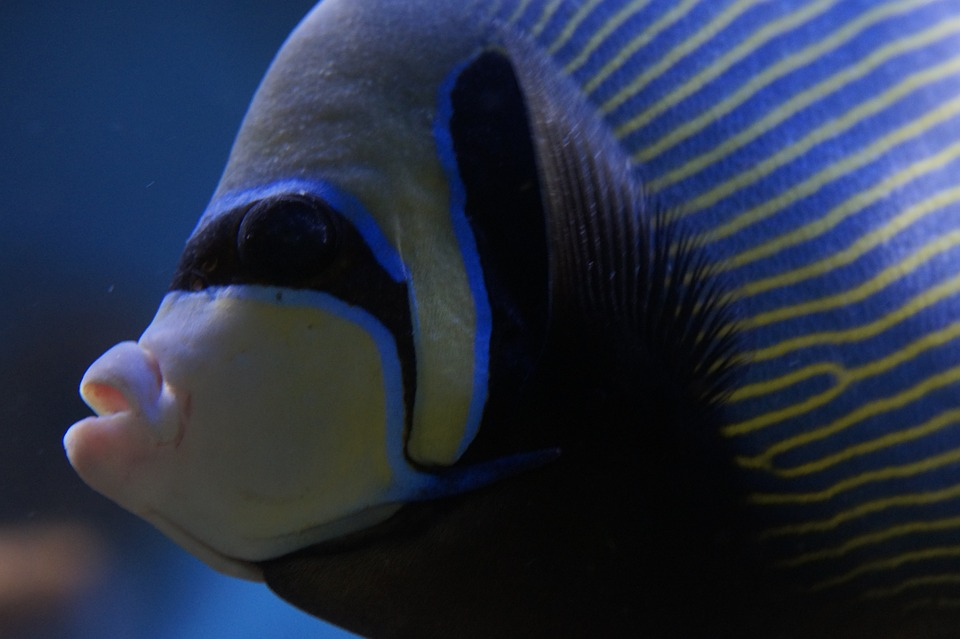Pomacanthus_imperator: (55, 1, 959, 632)
